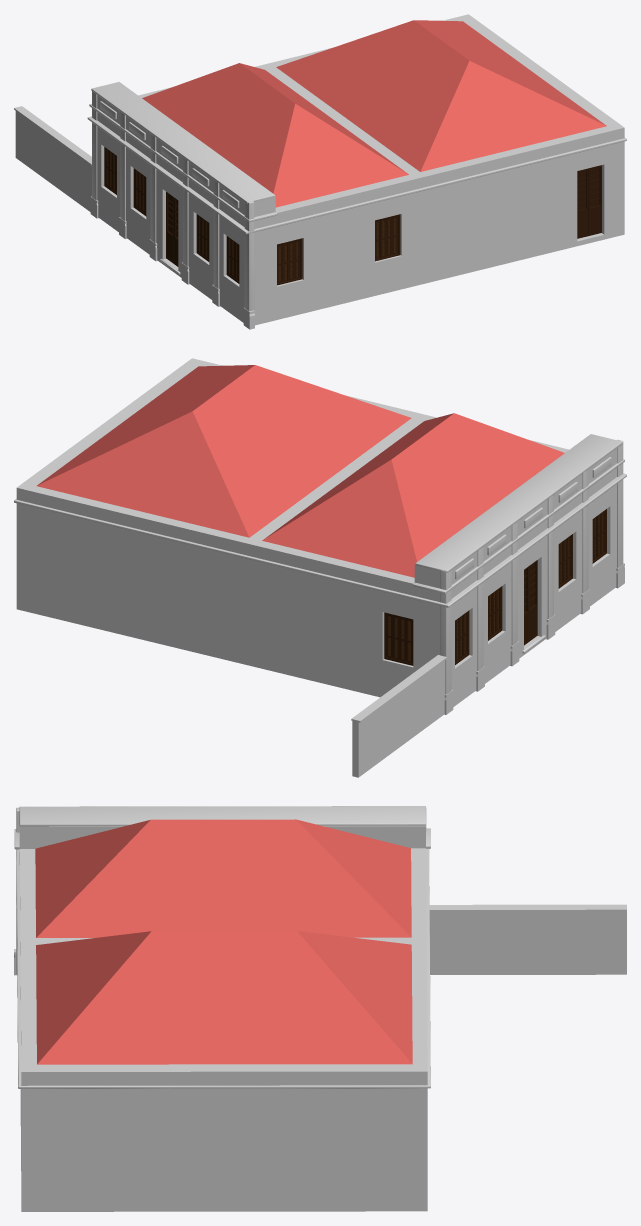
The model's file is esquerda_igreja.glb.
3 renders of one model, top to bottom at view 1: azimuth 30°, elevation 25°; view 2: azimuth 150°, elevation 25°; view 3: azimuth 270°, elevation 25°, orthographic. The views are drawn at different scales.
Parts seen in each view (by area): view 1: Cube, Cube.001, Cube.013, Cube.028, Cube.017, Cube.016, Cube.026, Cube.011, Cube.010, Cube.027, Cube.030, Cube.173; view 2: Cube, Cube.001, Cube.013, Cube.028, Cube.017, Cube.016, Cube.026, Cube.011, Cube.030, Cube.027, Cube.010; view 3: Cube, Cube.001, Cube.013, Cube.016, Cube.028, Cube.026, Cube.011, Cube.030.
Boxes of the visible parts, box(x1,y1,x2,y2) form: Cube: box(97, 14, 624, 325); Cube.001: box(276, 20, 606, 171); Cube.013: box(142, 63, 408, 207); Cube.028: box(91, 82, 275, 203); Cube.017: box(92, 91, 254, 311); Cube.016: box(15, 111, 91, 211); Cube.026: box(87, 116, 626, 234); Cube.011: box(97, 95, 275, 216); Cube.010: box(100, 101, 239, 208); Cube.027: box(89, 103, 277, 222); Cube.030: box(14, 106, 91, 165); Cube.173: box(577, 167, 599, 210); Cube: box(16, 358, 616, 706); Cube.001: box(36, 365, 411, 537); Cube.013: box(262, 413, 564, 577); Cube.028: box(415, 434, 622, 572); Cube.017: box(440, 439, 623, 694); Cube.016: box(352, 660, 445, 777); Cube.026: box(14, 473, 626, 607); Cube.011: box(414, 448, 617, 588); Cube.030: box(351, 655, 447, 722); Cube.027: box(413, 459, 624, 593); Cube.010: box(455, 457, 611, 579); Cube: box(19, 848, 427, 1211); Cube.001: box(36, 931, 412, 1064); Cube.013: box(35, 819, 411, 937); Cube.016: box(429, 911, 626, 974); Cube.028: box(19, 806, 425, 826); Cube.026: box(16, 848, 430, 1088); Cube.011: box(19, 826, 425, 848); Cube.030: box(429, 904, 626, 911).
Size of the model in its own units: 21.15 by 8.66 by 22.43.
